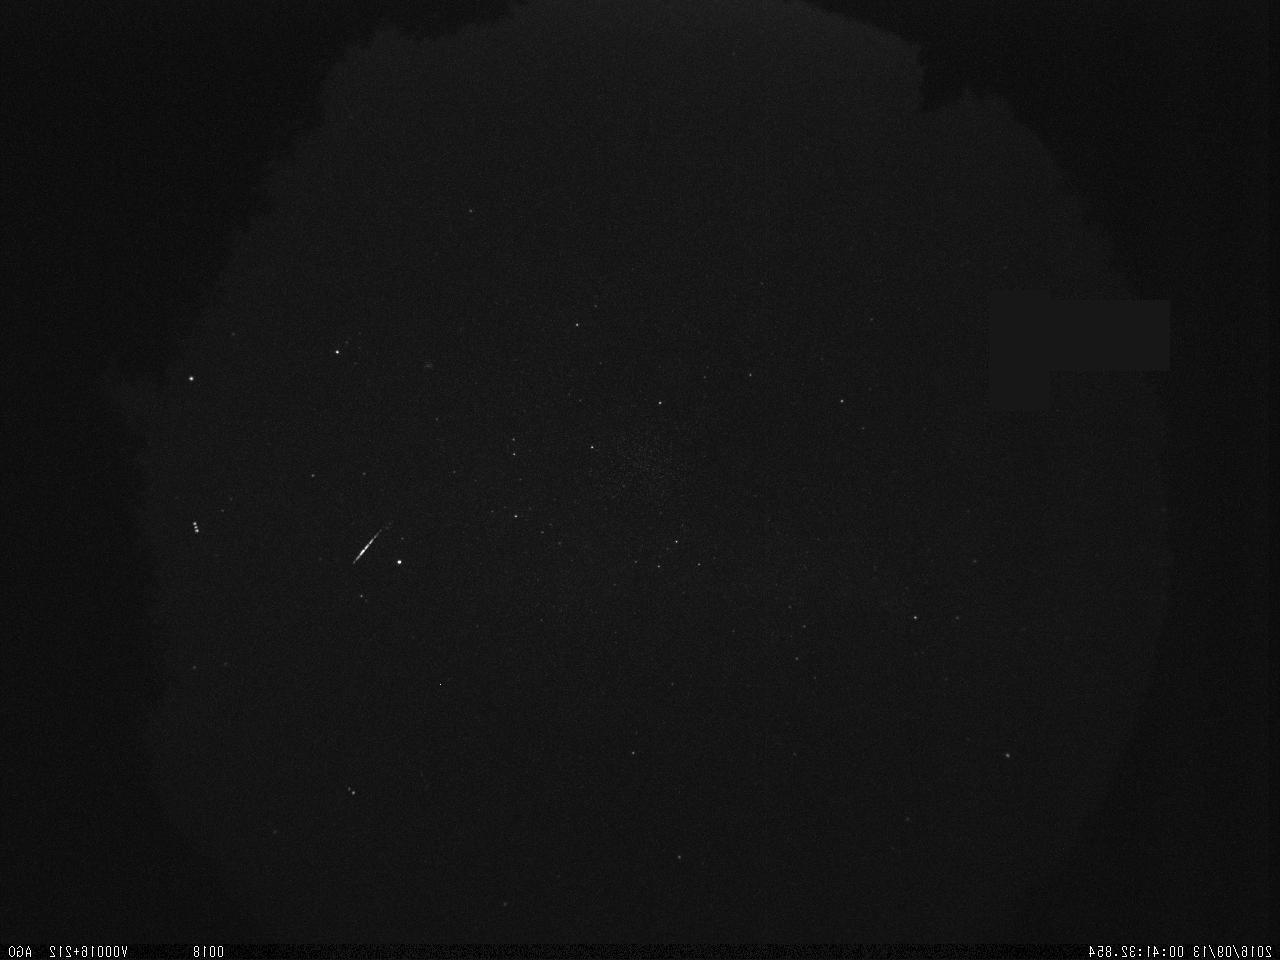meteor: (321, 513, 411, 588)
